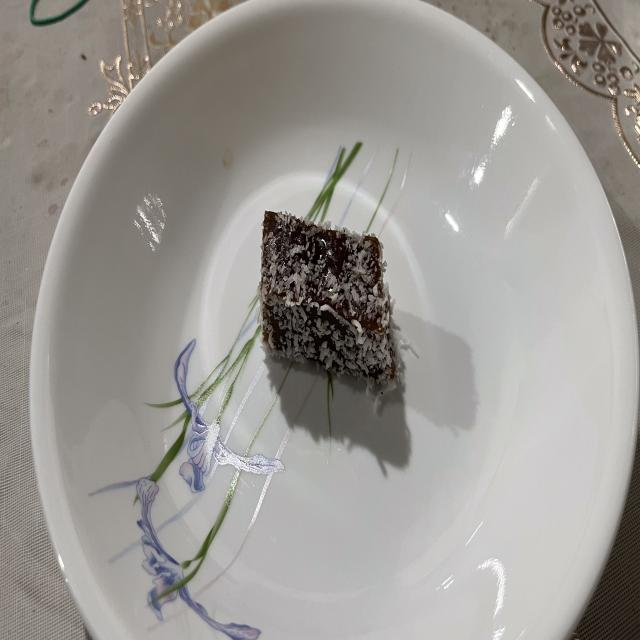kaswi: (259, 211, 402, 393)
